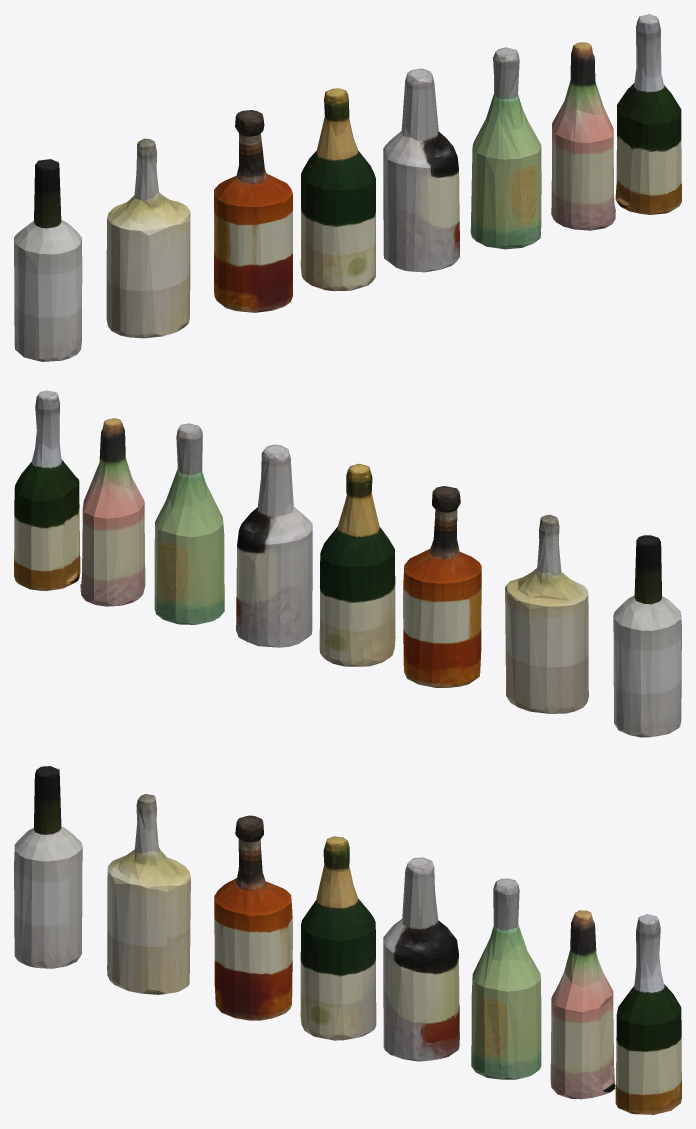
Rendered from bottles_row.glb.
3 renders of one model, top to bottom at view 1: azimuth 30°, elevation 25°; view 2: azimuth 150°, elevation 25°; view 3: azimuth 330°, elevation 25°, orthographic.
Visible parts, largest first — view 1: geometry_0; view 2: geometry_0; view 3: geometry_0.
Boxes of the visible parts, box(x1,y1,x2,y2) form: geometry_0: box(14, 14, 681, 361); geometry_0: box(14, 390, 681, 737); geometry_0: box(14, 766, 681, 1114).
Bounding box in the file's own units: 1 × 0.2712 × 0.1041.
Materials: 1 (1 with a texture image).
